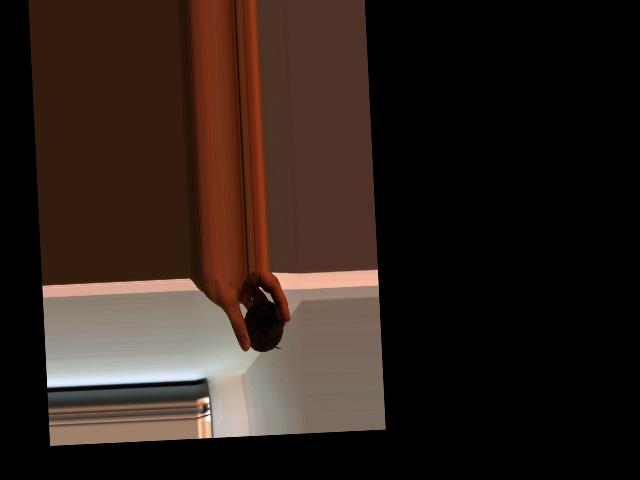beet: (241, 270, 286, 353)
